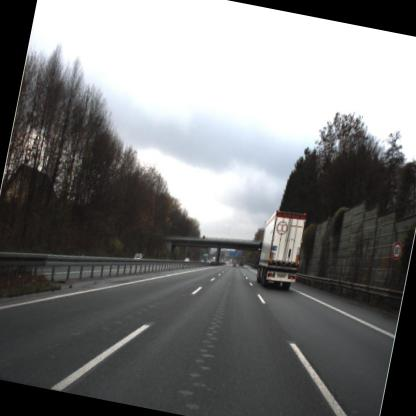prohibitory: (388, 239, 404, 261)
